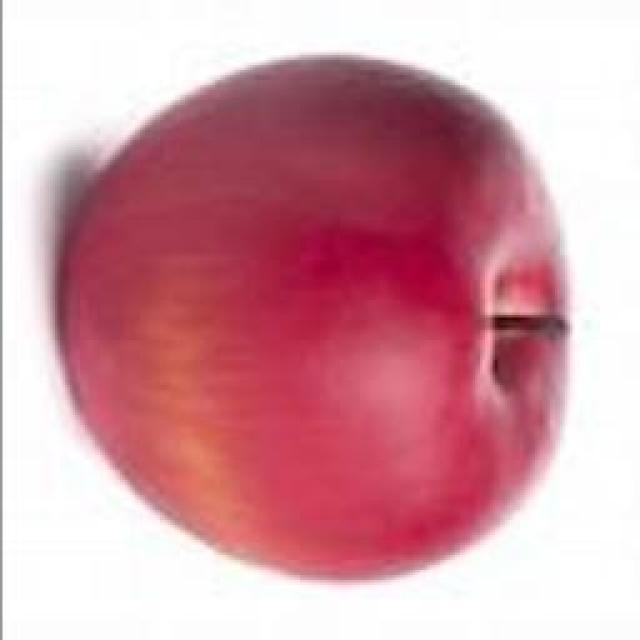apple: (54, 50, 572, 583)
